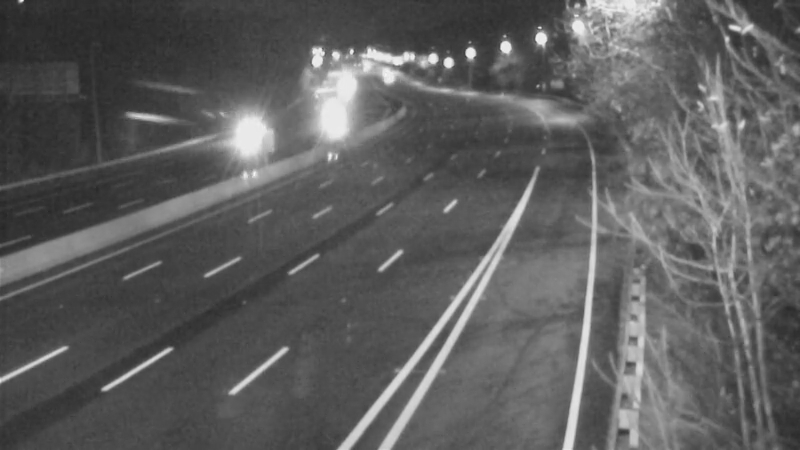vehicle: (365, 56, 415, 106), (224, 105, 274, 155), (308, 91, 358, 141)
